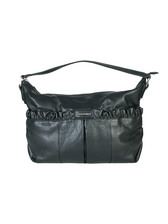bag: (10, 59, 162, 168)
